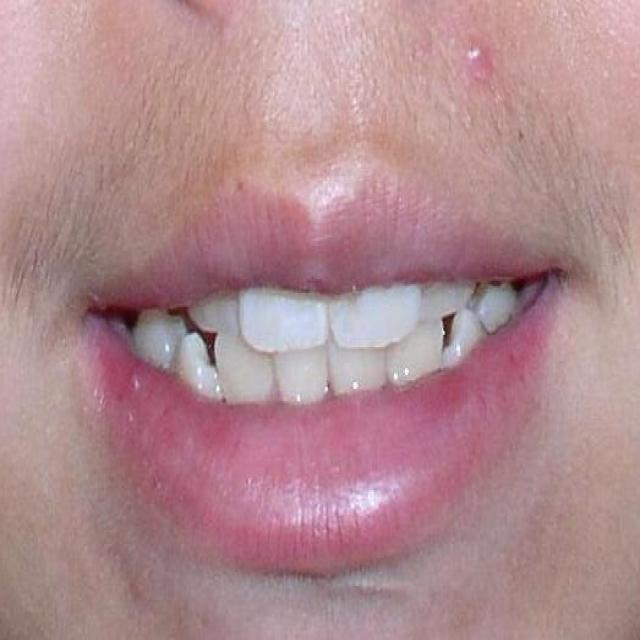tooth: (242, 291, 320, 342), (222, 344, 282, 404), (326, 298, 405, 337), (336, 349, 384, 394), (273, 354, 328, 392), (420, 276, 464, 319), (183, 343, 224, 389), (137, 312, 179, 354), (399, 330, 440, 364), (198, 302, 232, 336), (478, 288, 513, 321), (457, 317, 482, 340)
